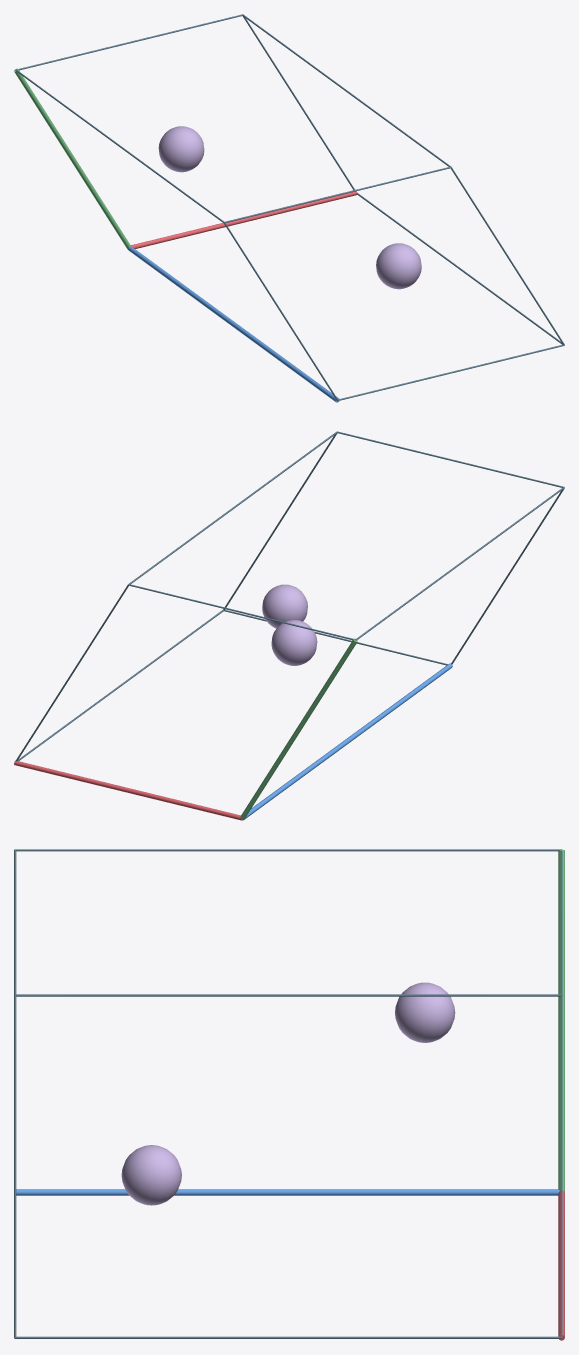
Rendered from nguyen-to-gd.glb.
The picture shows the model from 3 angles, top to bottom: view 1: azimuth 30°, elevation 25°; view 2: azimuth 150°, elevation 25°; view 3: azimuth 270°, elevation 25°; orthographic projection. The views are drawn at different scales.
Parts seen in each view (by area): view 1: Ô mạng và các trục a, b, c, Gd · Gd · 1 (×2); view 2: Ô mạng và các trục a, b, c, Gd · Gd · 1 (×2); view 3: Ô mạng và các trục a, b, c, Gd · Gd · 1 (×2).
Boxes of the visible parts, left/top/right/bottom form: Ô mạng và các trục a, b, c: left=14, top=14, right=564, bottom=402; Gd · Gd · 1 (×2): left=158, top=126, right=421, bottom=289; Ô mạng và các trục a, b, c: left=14, top=431, right=564, bottom=820; Gd · Gd · 1 (×2): left=262, top=584, right=317, bottom=665; Ô mạng và các trục a, b, c: left=14, top=849, right=564, bottom=1340; Gd · Gd · 1 (×2): left=121, top=982, right=455, bottom=1205.
Size of the model in its own units: 5.5 by 3.2 by 5.83.
